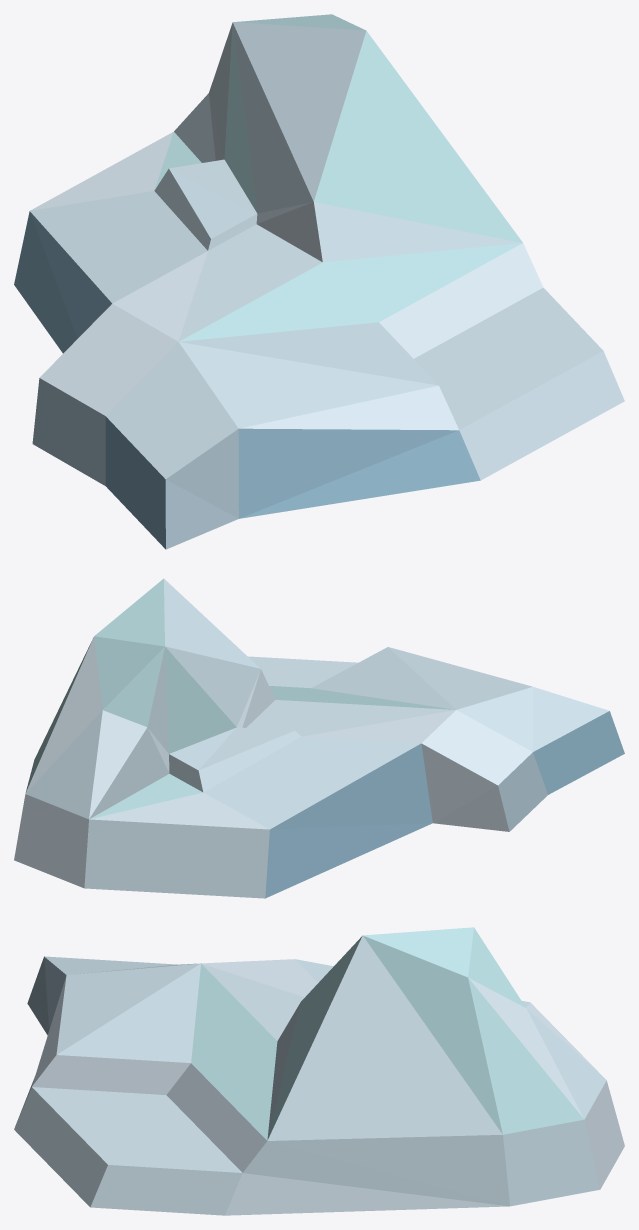
File: Iceberg 6.fbx
3 views of the same model, one above another, from view 1: azimuth 30°, elevation 25°; view 2: azimuth 150°, elevation 25°; view 3: azimuth 270°, elevation 25° (orthographic). The views are drawn at different scales.
Parts seen in each view (by area): view 1: Iceberg 6; view 2: Iceberg 6; view 3: Iceberg 6.
Part boxes in pixels (x1=…): Iceberg 6: x1=14, y1=14, x2=624, y2=549; Iceberg 6: x1=14, y1=578, x2=624, y2=898; Iceberg 6: x1=14, y1=927, x2=624, y2=1215.
Bounding box in the file's own units: 3895 × 1988 × 4739.
